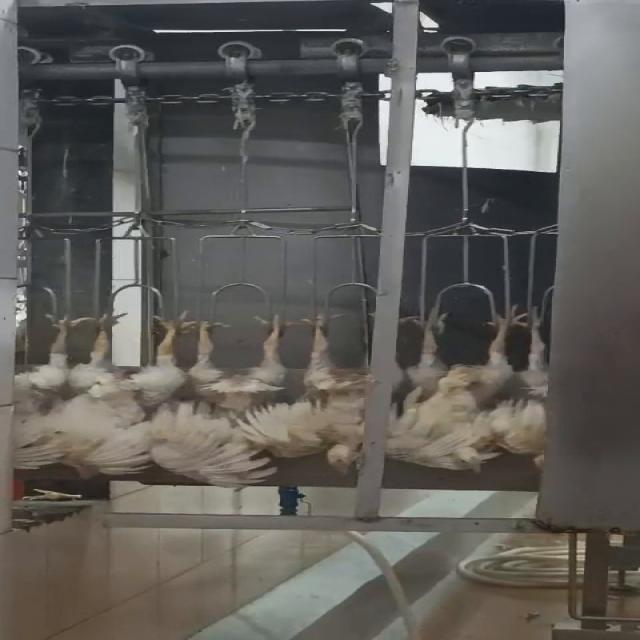chicken: (388, 312, 526, 476), (75, 313, 208, 477), (183, 310, 296, 491), (0, 312, 101, 475), (295, 308, 368, 478), (512, 298, 555, 466)
